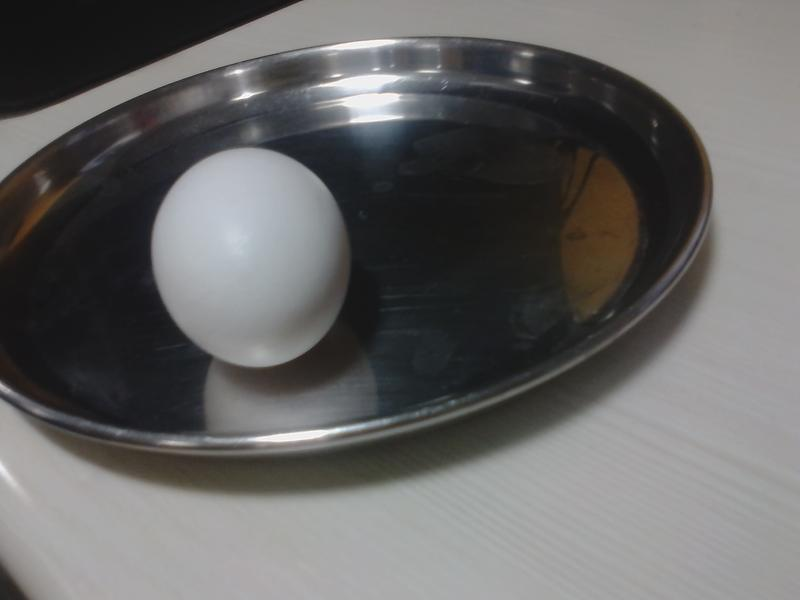egg: (154, 155, 350, 365)
